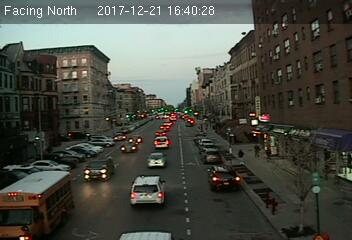car: (129, 175, 167, 205), (206, 165, 241, 191), (82, 157, 117, 181), (145, 151, 168, 168), (204, 149, 222, 164), (119, 142, 138, 153), (153, 136, 170, 148)
pedestrian: (253, 143, 262, 160)
truck: (1, 169, 75, 240)
